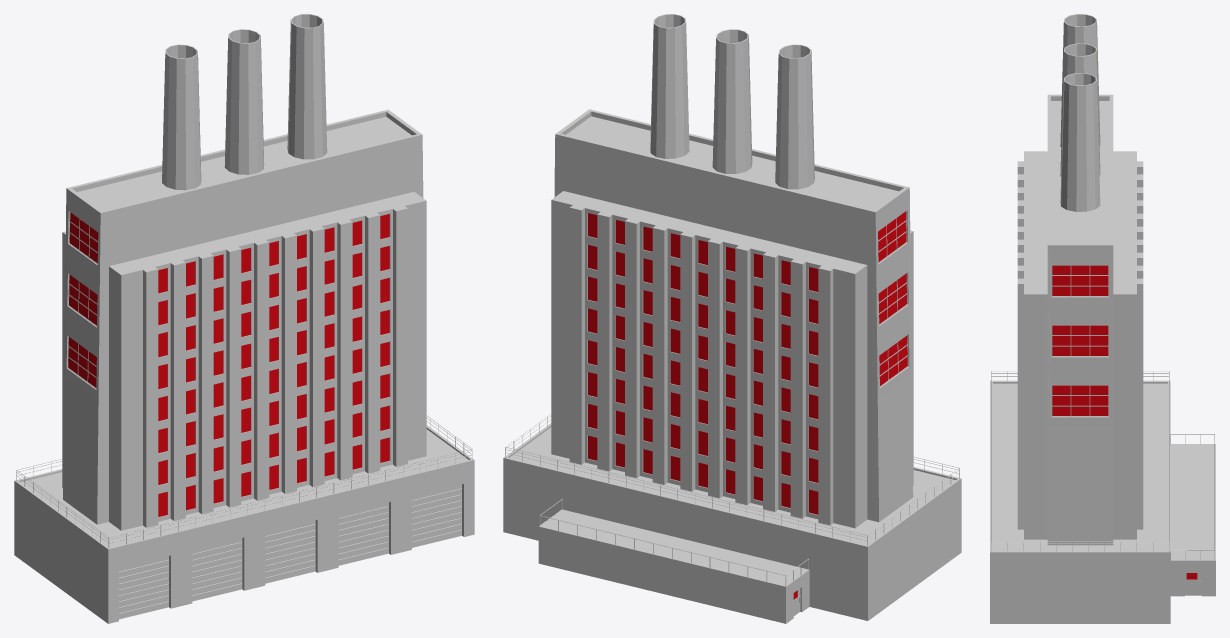
Rendered from SM_infrastructure_buildings_010.glb.
3 views of the same model, side by side, from view 1: azimuth 30°, elevation 25°; view 2: azimuth 150°, elevation 25°; view 3: azimuth 270°, elevation 25° (orthographic). The views are drawn at different scales.
Parts seen in each view (by area): view 1: infrastructure_buildings_010; view 2: infrastructure_buildings_010; view 3: infrastructure_buildings_010.
Part boxes in pixels (x1=…): infrastructure_buildings_010: x1=14, y1=14, x2=474, y2=623; infrastructure_buildings_010: x1=503, y1=14, x2=961, y2=623; infrastructure_buildings_010: x1=990, y1=14, x2=1215, y2=623.
Size of the model in its own units: 36 by 47.73 by 20.
